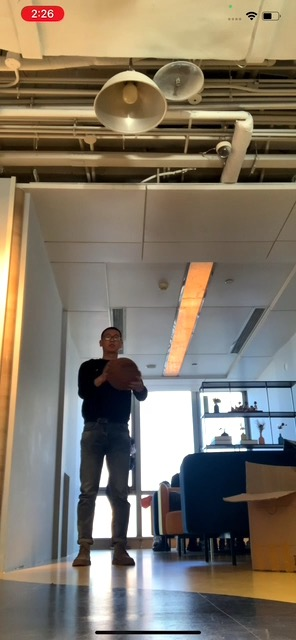ball: (106, 356, 142, 390)
